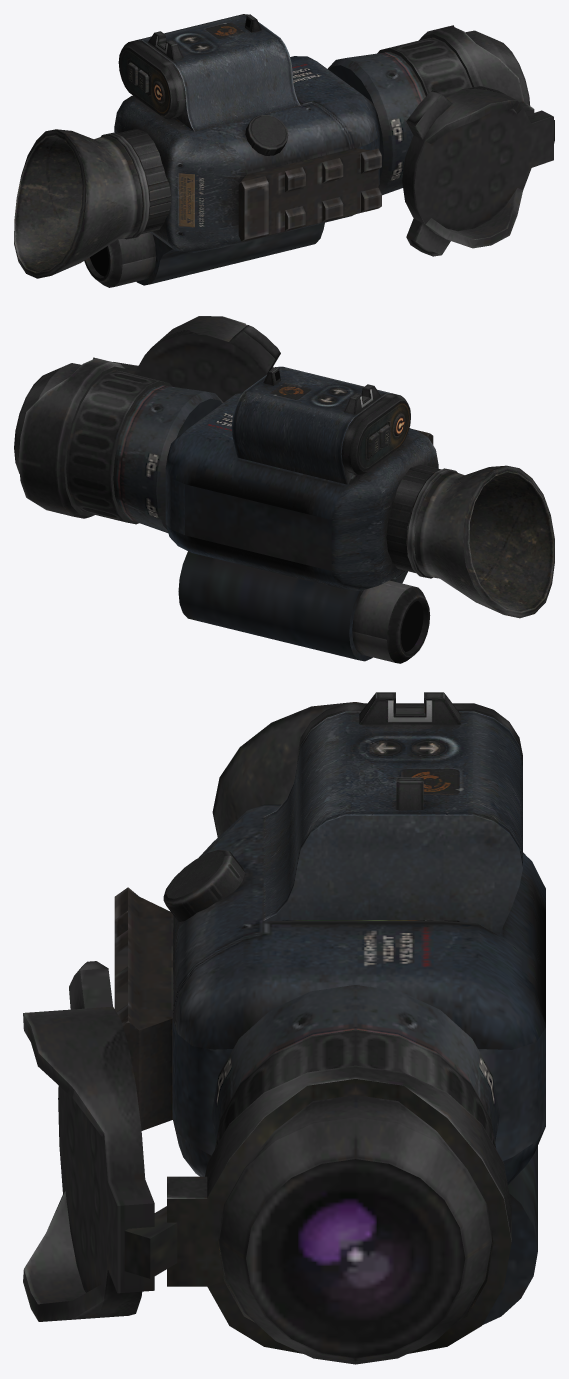
File: t6_attach_optic_dualband_view_LOD0.obj
3 views of the same model, one above another, from view 1: azimuth 30°, elevation 25°; view 2: azimuth 150°, elevation 25°; view 3: azimuth 270°, elevation 25° (orthographic). The views are drawn at different scales.
Parts seen in each view (by area): view 1: mtl_t6_attach_optic_dualband, mtl_t6_attach_optic_dualband_camo1, mtl_t6_attach_optic_dualband_camo2, mtl_t6_wpn_sniper_ballista_lens; view 2: mtl_t6_attach_optic_dualband_camo1, mtl_t6_attach_optic_dualband, mtl_t6_attach_optic_dualband_camo2, mtl_t6_wpn_sniper_ballista_lens; view 3: mtl_t6_attach_optic_dualband, mtl_t6_attach_optic_dualband_camo1, mtl_t6_attach_optic_dualband_camo2.
Part boxes in pixels (box(x1,y1,x2,y2)): mtl_t6_attach_optic_dualband: box(14, 14, 554, 286); mtl_t6_attach_optic_dualband_camo1: box(114, 14, 425, 285); mtl_t6_attach_optic_dualband_camo2: box(97, 15, 530, 287); mtl_t6_wpn_sniper_ballista_lens: box(90, 247, 108, 276); mtl_t6_attach_optic_dualband_camo1: box(113, 366, 438, 661); mtl_t6_attach_optic_dualband: box(18, 316, 554, 662); mtl_t6_attach_optic_dualband_camo2: box(14, 365, 451, 663); mtl_t6_wpn_sniper_ballista_lens: box(401, 600, 423, 652); mtl_t6_attach_optic_dualband: box(23, 692, 522, 1357); mtl_t6_attach_optic_dualband_camo1: box(172, 711, 545, 1324); mtl_t6_attach_optic_dualband_camo2: box(114, 853, 496, 1364).
Bounding box in the file's own units: 14.84 × 7.32 × 7.03.
